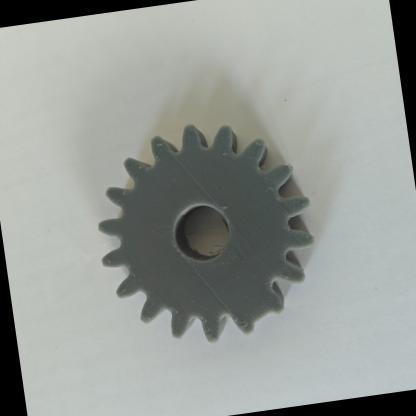defect: (210, 274, 302, 348)
gear: (67, 99, 359, 389)
